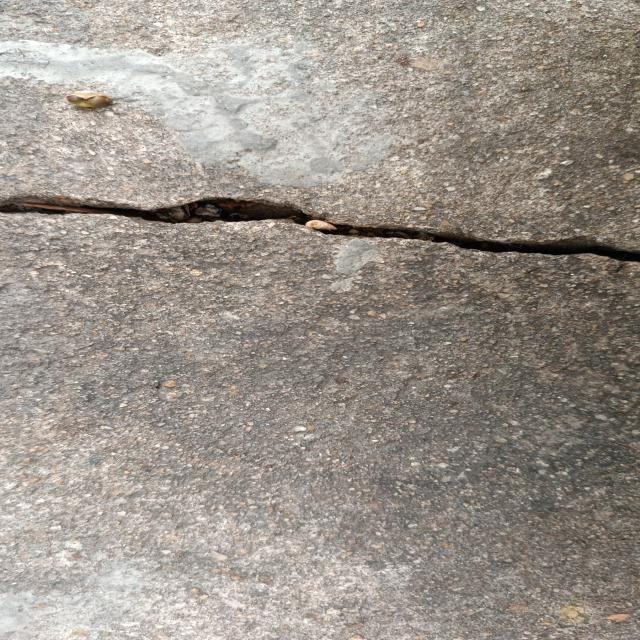horizontal crack: (0, 196, 639, 262)
